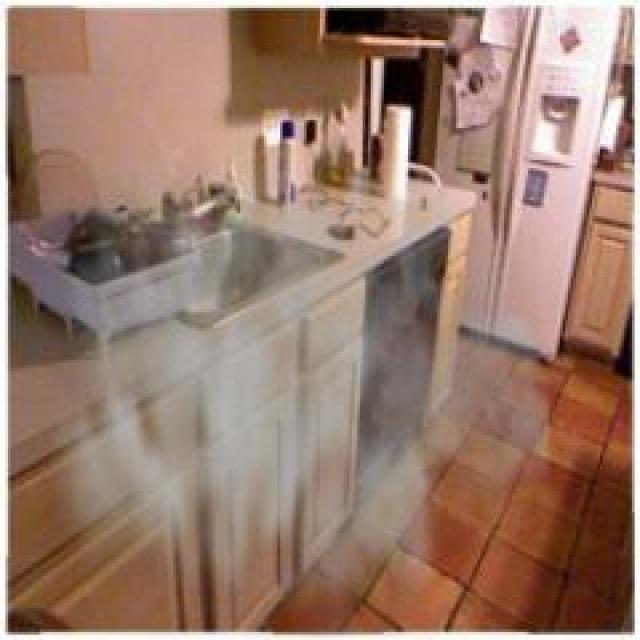Smoke: (20, 105, 548, 639)
